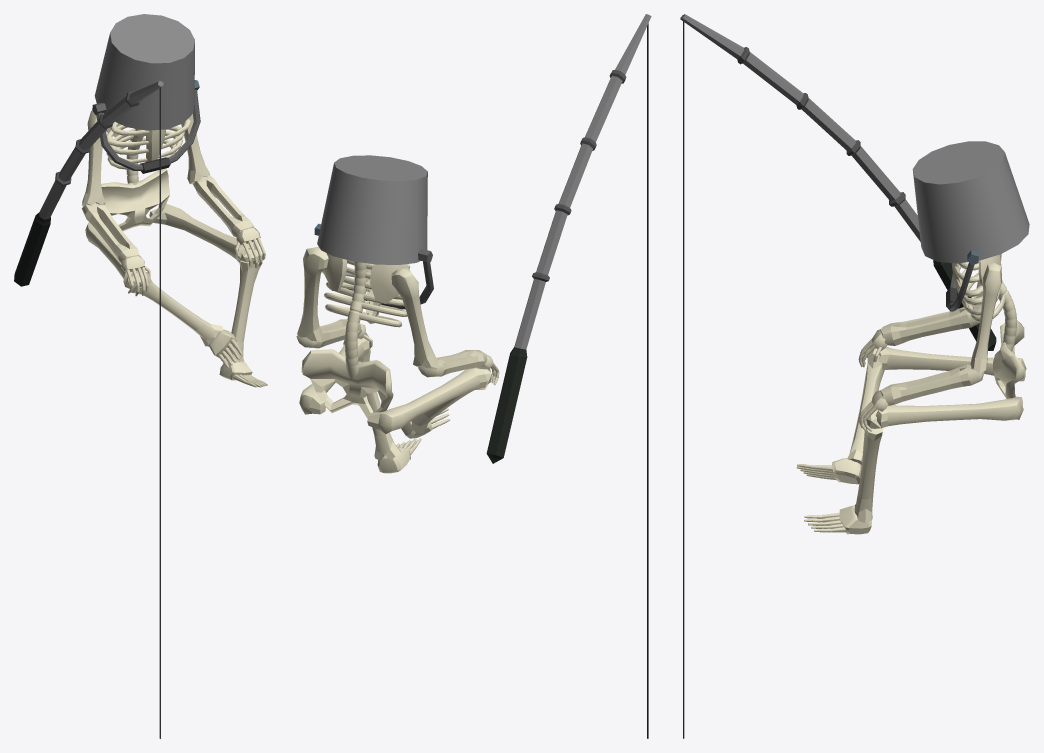
The model's file is Pescador4.fbx.
3 views of the same model, side by side, from view 1: azimuth 30°, elevation 25°; view 2: azimuth 150°, elevation 25°; view 3: azimuth 270°, elevation 25° (orthographic). The views are drawn at different scales.
Visible parts, largest first — view 1: Pescador4; view 2: Pescador4; view 3: Pescador4.
Boxes of the visible parts, <box> form: Pescador4: <box>14,14,267,738</box>; Pescador4: <box>296,14,651,738</box>; Pescador4: <box>680,14,1029,738</box>.
Bounding box in the file's own units: 81.62 × 261 × 114.
